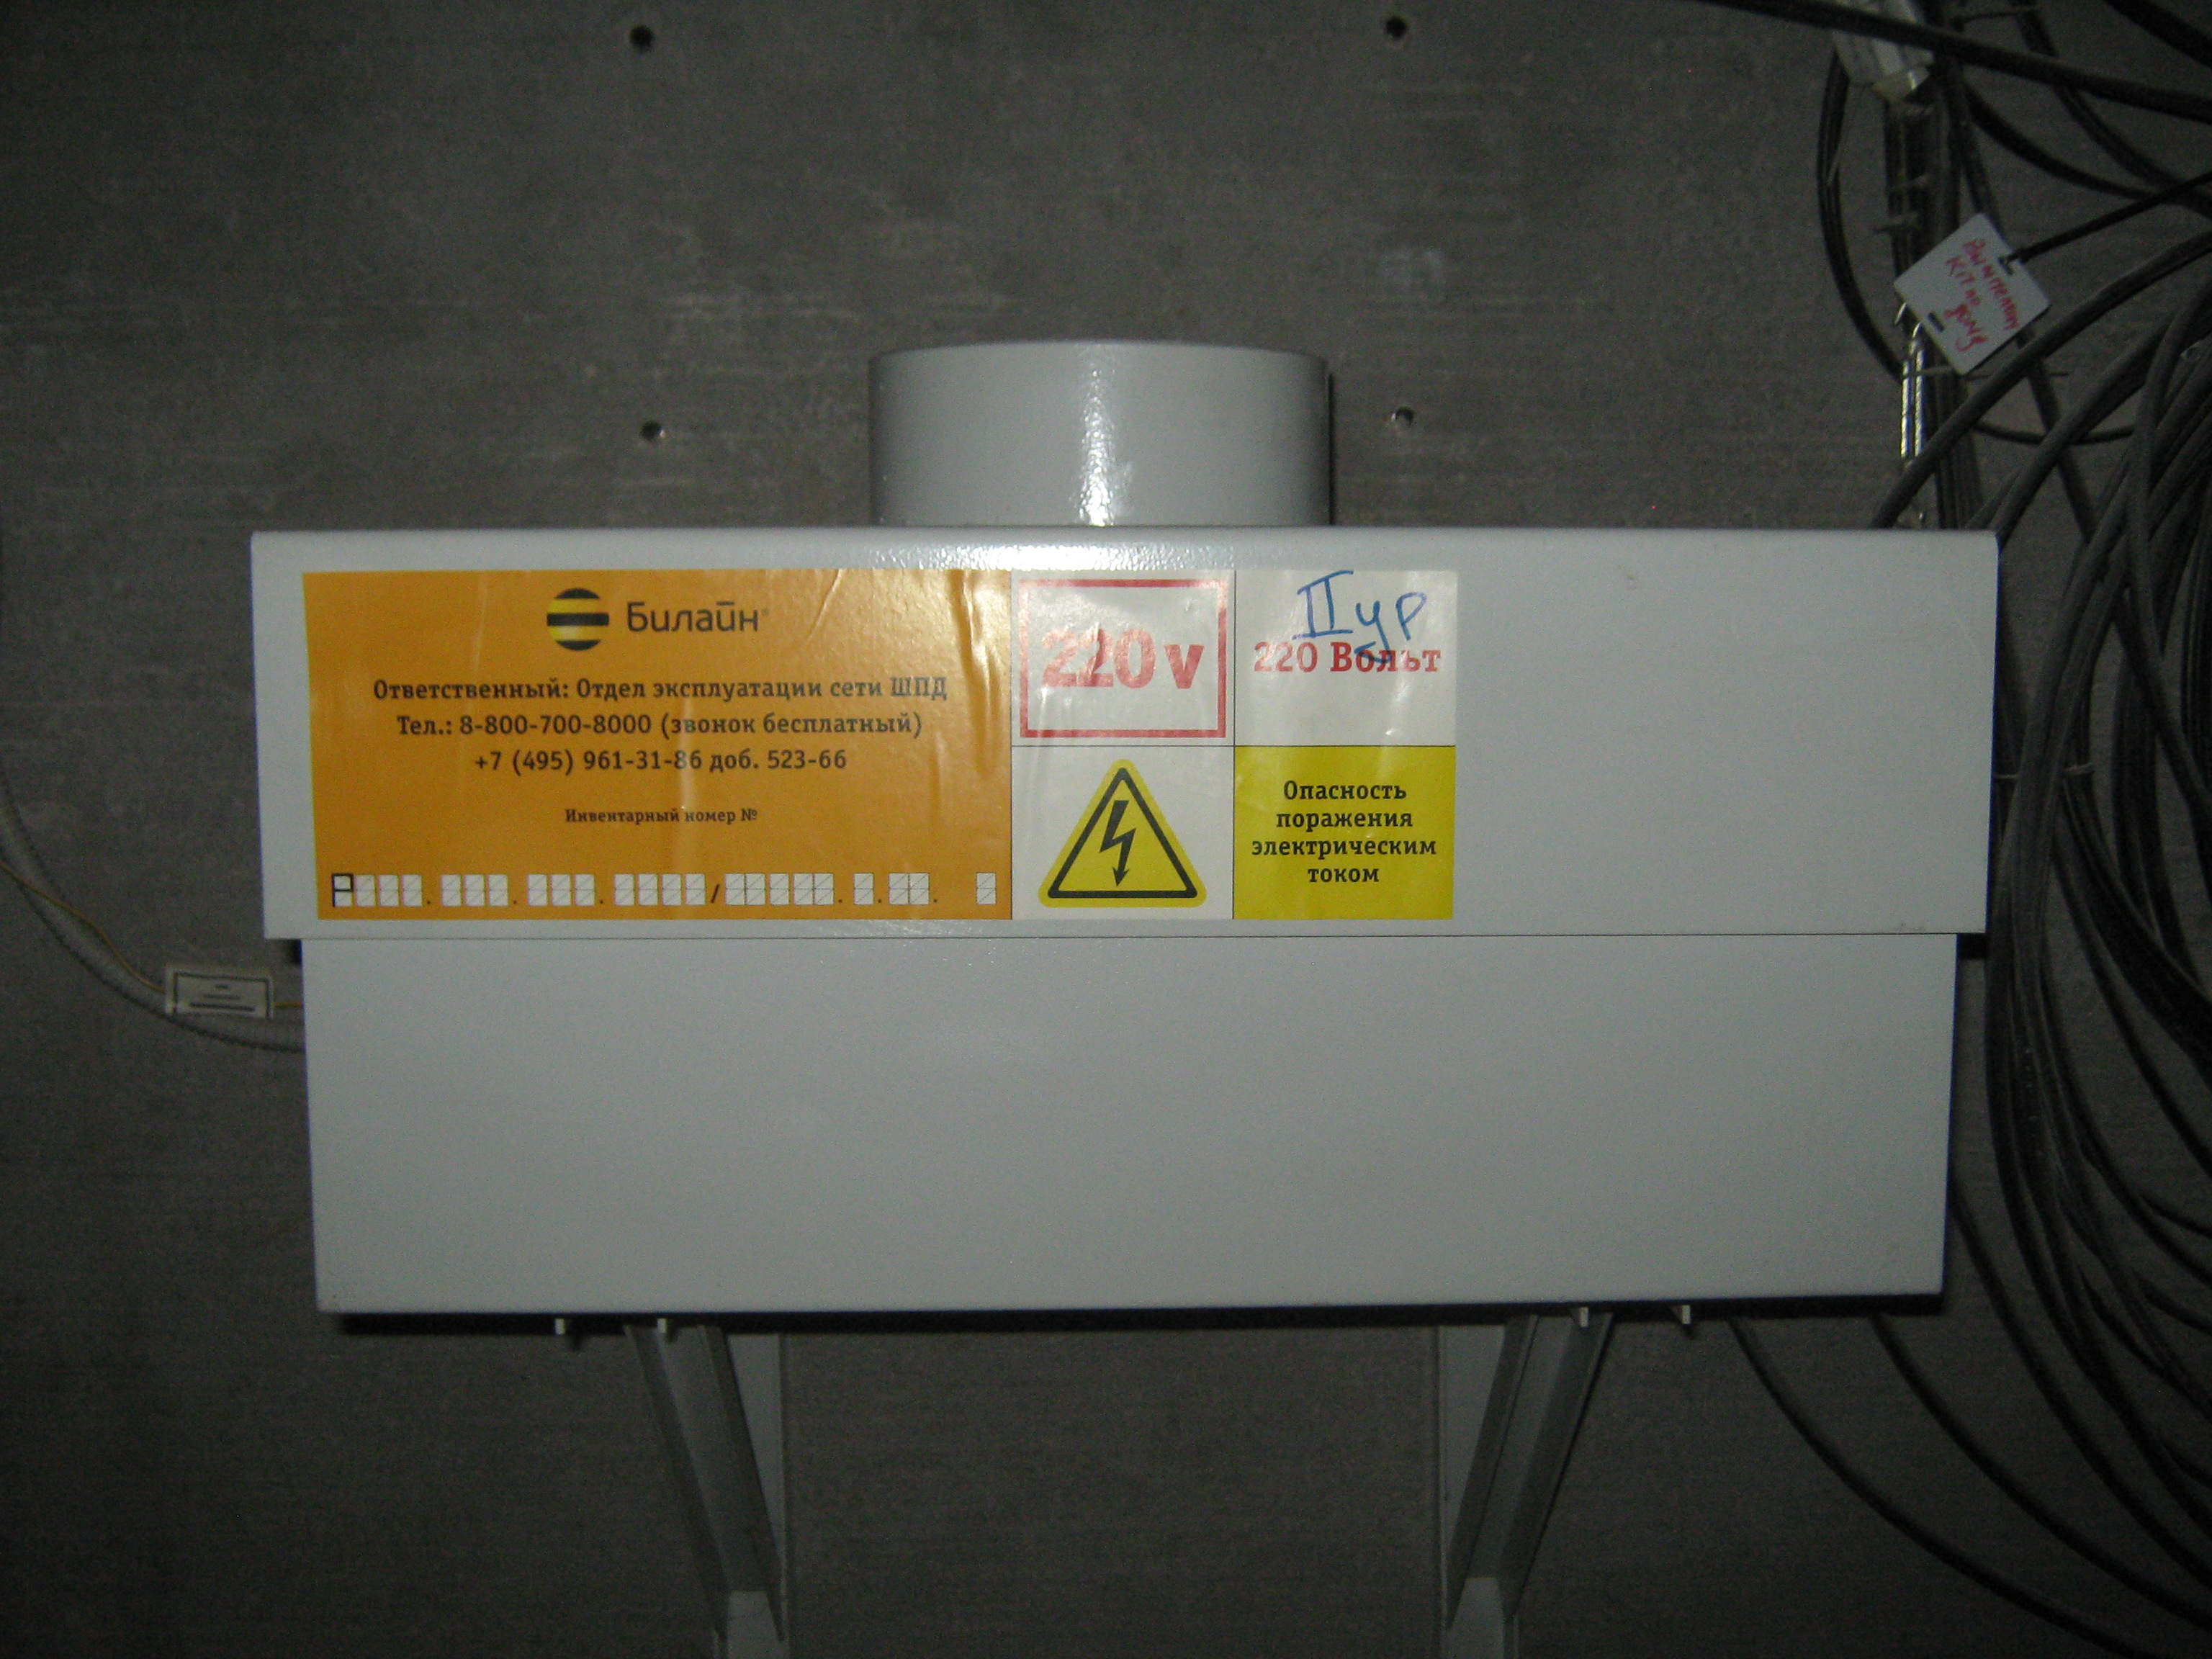shta-ps: (214, 324, 2020, 1349)
